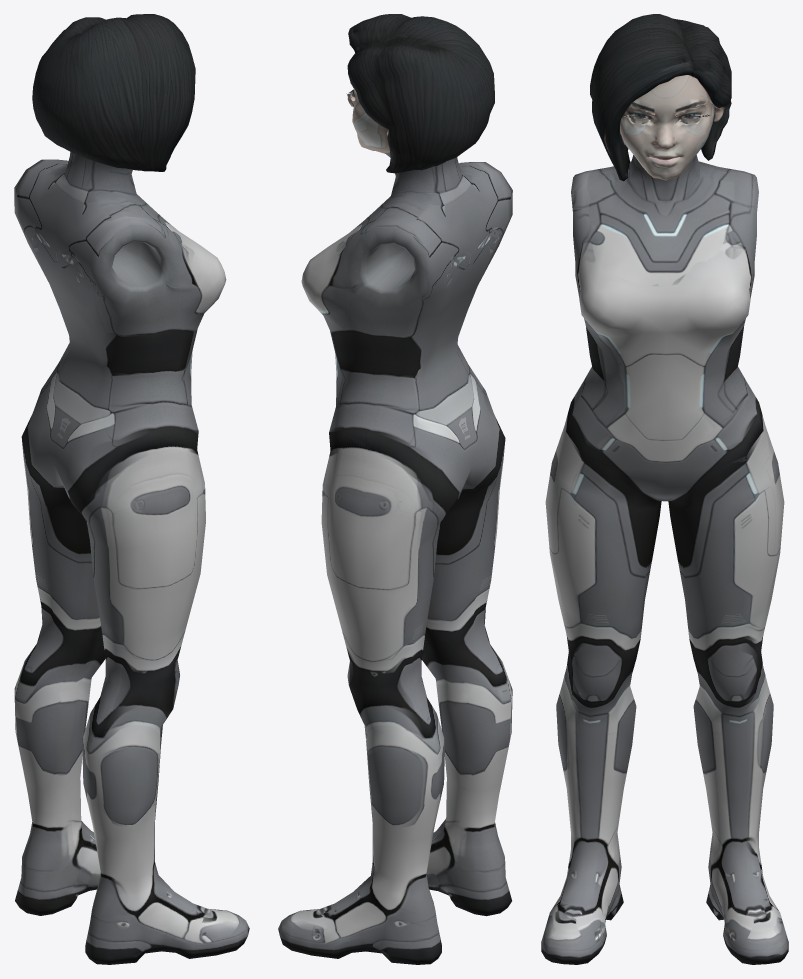
File: fuzeball_womanAndroid.glb
3 renders of one model, left to right at view 1: azimuth 30°, elevation 25°; view 2: azimuth 150°, elevation 25°; view 3: azimuth 270°, elevation 25°, orthographic.
Parts seen in each view (by area): view 1: tripo_node_d567edea-2dbc-4464-adcd-b39e958a0490; view 2: tripo_node_d567edea-2dbc-4464-adcd-b39e958a0490; view 3: tripo_node_d567edea-2dbc-4464-adcd-b39e958a0490.
Boxes of the visible parts, bbox=[...] form: tripo_node_d567edea-2dbc-4464-adcd-b39e958a0490: bbox=[14, 14, 249, 964]; tripo_node_d567edea-2dbc-4464-adcd-b39e958a0490: bbox=[278, 14, 512, 964]; tripo_node_d567edea-2dbc-4464-adcd-b39e958a0490: bbox=[541, 14, 788, 964].
Size of the model in its own units: 2 by 11.08 by 2.75.
3 materials, 3 textured.
